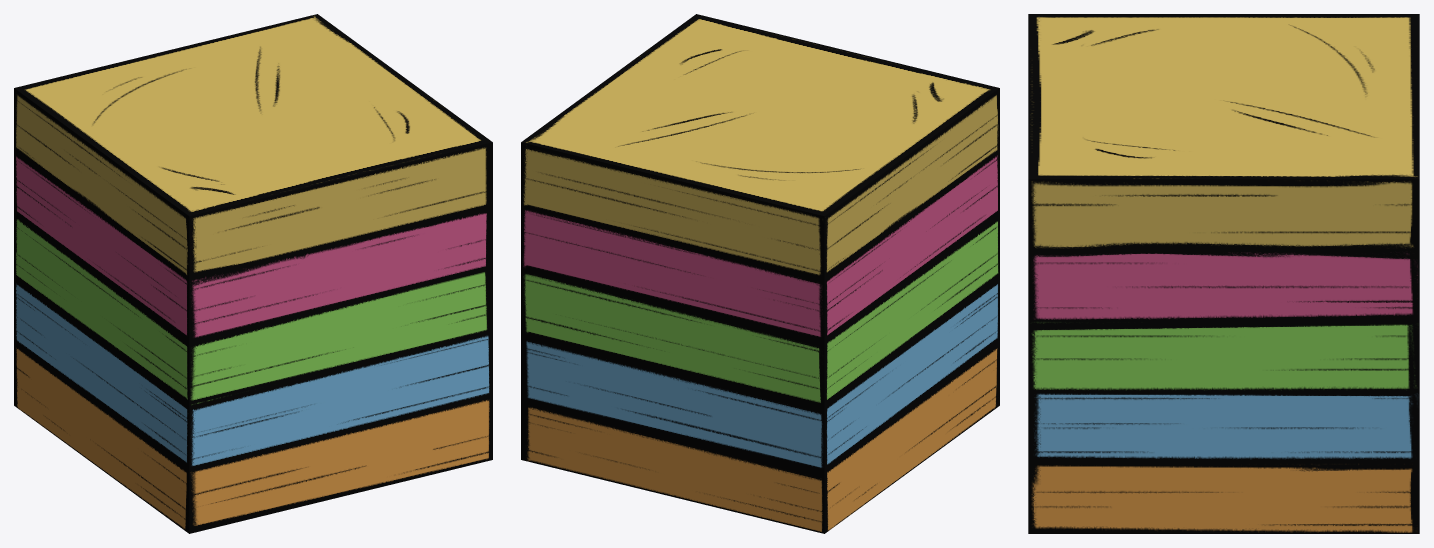
Rendered from stickynotestack.fbx.
The picture shows the model from 3 angles, left to right: view 1: azimuth 30°, elevation 25°; view 2: azimuth 150°, elevation 25°; view 3: azimuth 270°, elevation 25°; orthographic projection. The views are drawn at different scales.
Visible parts, largest first — view 1: stickynotestack; view 2: stickynotestack; view 3: stickynotestack.
Part boxes in pixels (x1,y1,x2,y2): stickynotestack: [14, 14, 492, 533]; stickynotestack: [521, 14, 999, 533]; stickynotestack: [1028, 14, 1419, 533].
Size of the model in its own units: 200 by 200 by 200.
1 material, 1 textured.
